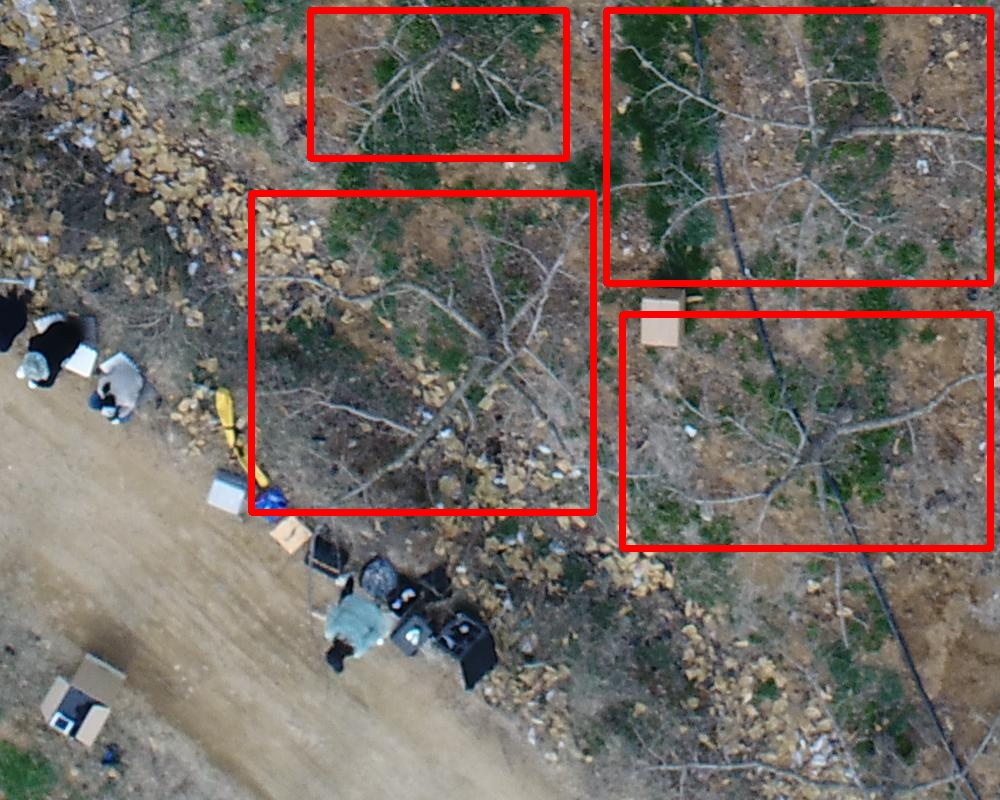apple: (251, 193, 593, 512), (606, 10, 990, 283), (622, 314, 990, 548), (310, 10, 566, 158)
